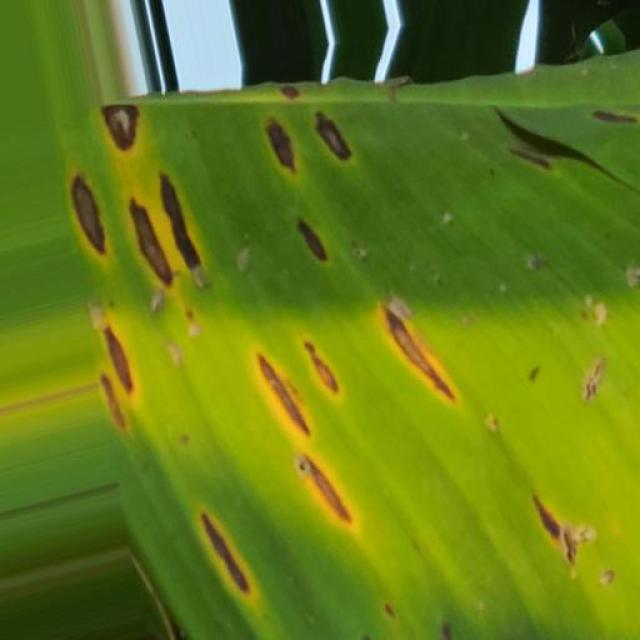Early_rust: (55, 76, 634, 640)
